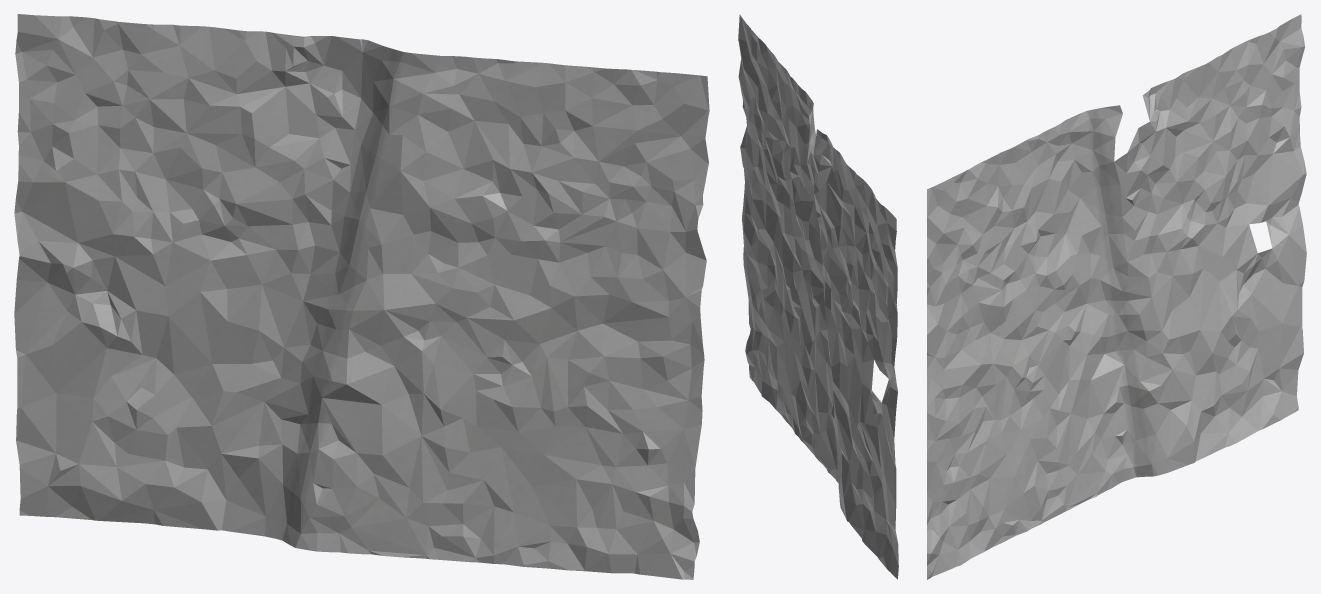
3 views of the same model, side by side, from view 1: azimuth 30°, elevation 25°; view 2: azimuth 150°, elevation 25°; view 3: azimuth 270°, elevation 25° (orthographic). The views are drawn at different scales.
Bounding box in the file's own units: 0.7983 × 0.8373 × 0.7274.
Materials: 3 (3 with a texture image).
